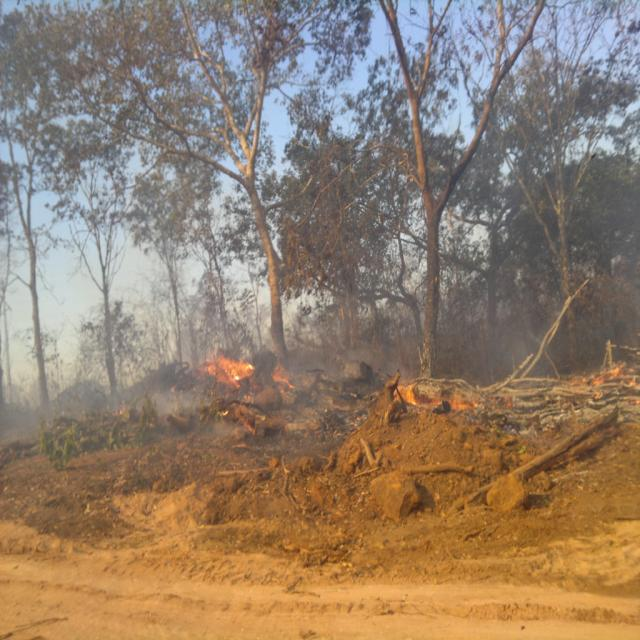Fire: (197, 354, 254, 388)
